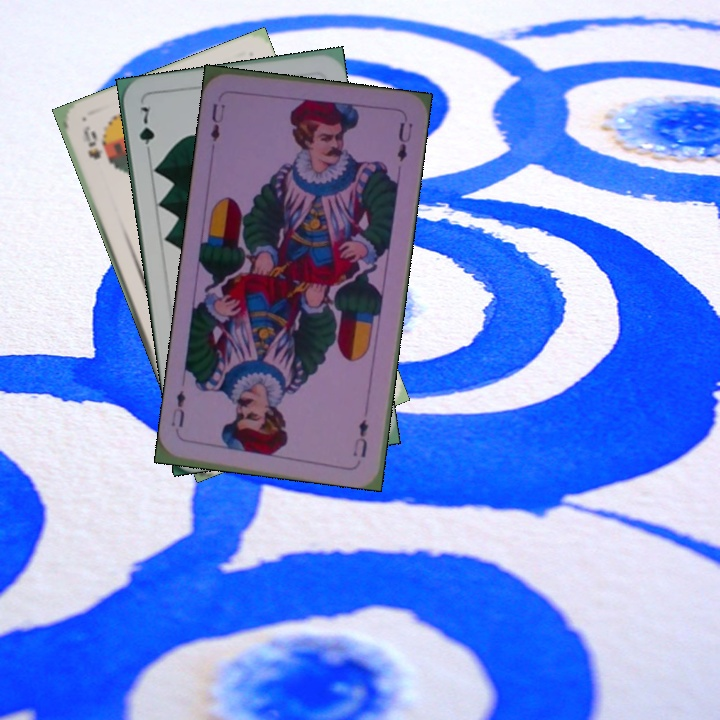EU: (206, 99, 228, 145), (350, 415, 371, 460)
G7: (135, 102, 157, 160)
SO: (79, 122, 104, 162)
